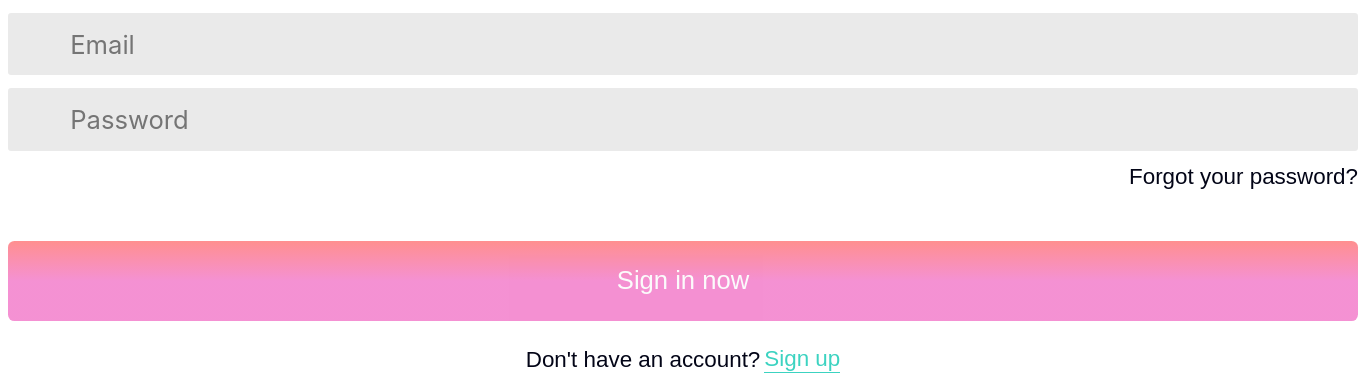
Scenario: Component: FormSignIn › should enable submit button when user fill in the form
Expected: the button "Sign in now" is disabled, [8,241,1358,321]
Type "teste@teste.com" into the field with placeholder "Email".
click(700, 44); type("teste@teste.com")  # box [57,16,1342,72]
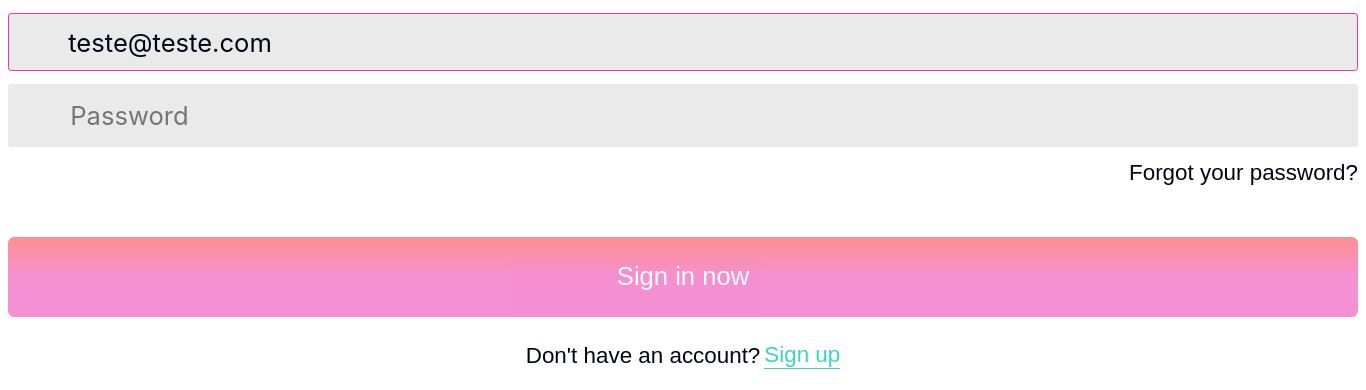
Type "senha123" into the password field with placeholder "Password".
click(700, 116); type("senha123")  # box [57,87,1342,144]
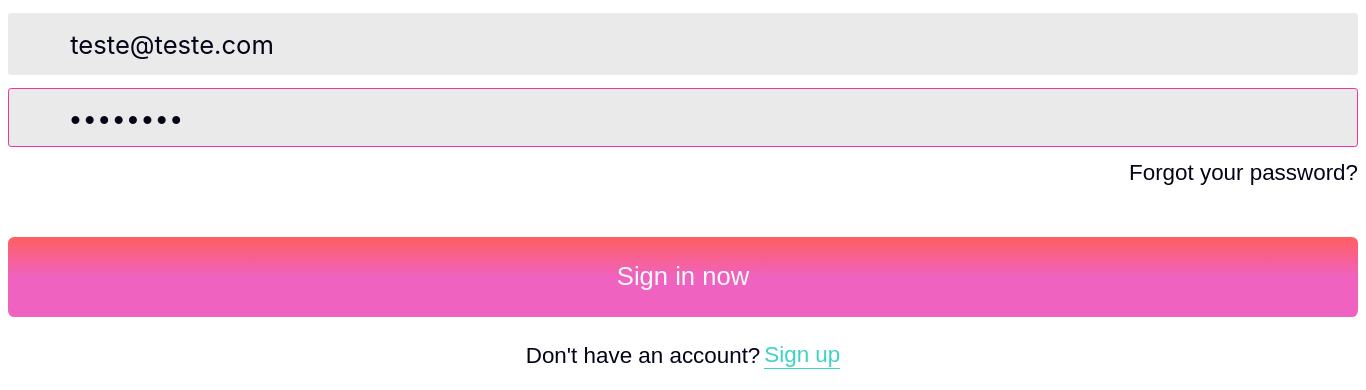
Result: the button "Sign in now" is enabled at [8,237,1358,317]
